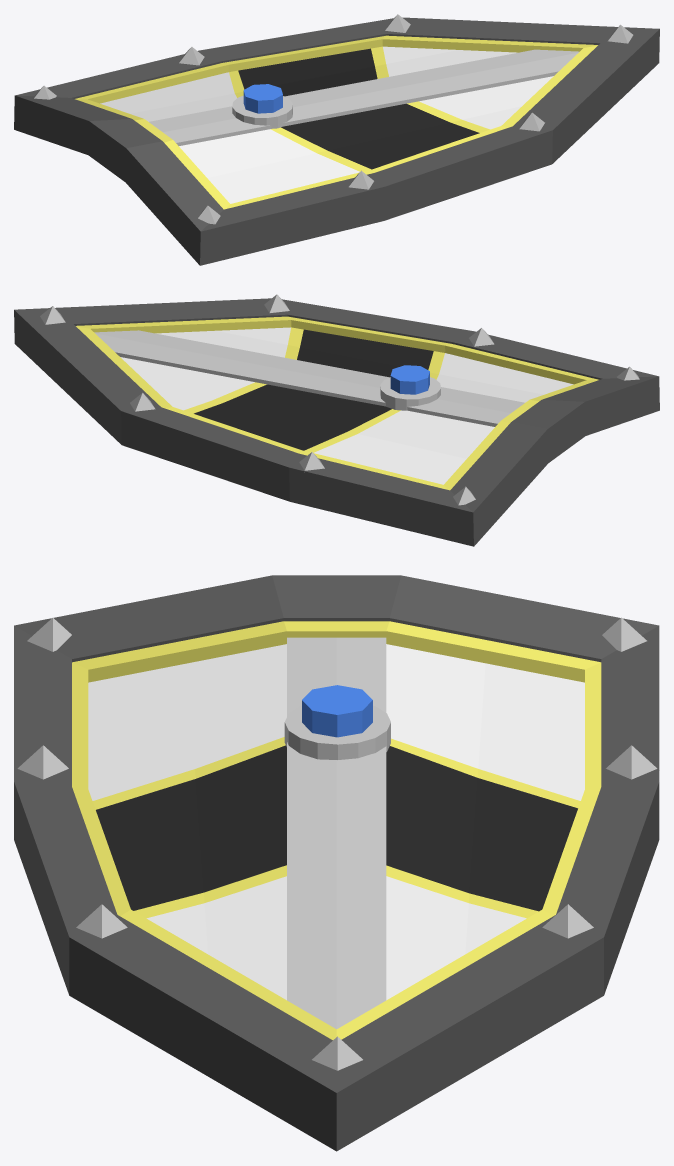
Rendered from Shield_4_e_w.fbx.
3 views of the same model, one above another, from view 1: azimuth 30°, elevation 25°; view 2: azimuth 150°, elevation 25°; view 3: azimuth 270°, elevation 25° (orthographic). The views are drawn at different scales.
Visible parts, largest first — view 1: Plane.344, Plane.336, Plane.338, Plane.339, Plane.341, Plane.340, Plane.337, Circle.403, Circle.404; view 2: Plane.344, Plane.338, Plane.336, Plane.339, Plane.341, Plane.340, Plane.337, Circle.403, Circle.404; view 3: Plane.344, Plane.338, Plane.339, Plane.336, Plane.341, Plane.340, Plane.337, Circle.403, Circle.404, Cone.575, Cone.571, Cone.576 (+4 smaller).
Boxes of the visible parts, x1=… form: Plane.344: x1=14, y1=17, x2=659, y2=265; Plane.336: x1=149, y1=49, x2=579, y2=145; Plane.338: x1=100, y1=72, x2=359, y2=203; Plane.339: x1=238, y1=48, x2=479, y2=169; Plane.341: x1=75, y1=35, x2=597, y2=209; Plane.340: x1=383, y1=46, x2=553, y2=129; Plane.337: x1=229, y1=46, x2=489, y2=171; Circle.403: x1=232, y1=95, x2=292, y2=128; Circle.404: x1=243, y1=84, x2=282, y2=113; Plane.344: x1=14, y1=298, x2=659, y2=546; Plane.338: x1=314, y1=353, x2=573, y2=484; Plane.336: x1=94, y1=330, x2=524, y2=426; Plane.339: x1=194, y1=329, x2=433, y2=450; Plane.341: x1=76, y1=316, x2=598, y2=490; Plane.340: x1=120, y1=327, x2=290, y2=410; Plane.337: x1=184, y1=327, x2=444, y2=452; Circle.403: x1=380, y1=377, x2=440, y2=410; Circle.404: x1=390, y1=365, x2=429, y2=394; Plane.344: x1=14, y1=575, x2=659, y2=1151; Plane.338: x1=88, y1=644, x2=584, y2=800; Plane.339: x1=96, y1=745, x2=577, y2=911; Plane.336: x1=287, y1=637, x2=386, y2=1029; Plane.341: x1=72, y1=621, x2=601, y2=1039; Plane.340: x1=146, y1=876, x2=526, y2=1000; Plane.337: x1=92, y1=737, x2=580, y2=918; Circle.403: x1=284, y1=705, x2=390, y2=759; Circle.404: x1=302, y1=685, x2=372, y2=737; Cone.575: x1=76, y1=904, x2=127, y2=938; Cone.571: x1=606, y1=745, x2=659, y2=779; Cone.576: x1=542, y1=904, x2=593, y2=938.
Bounding box in the file's own units: 78.1 × 17.09 × 45.54.
